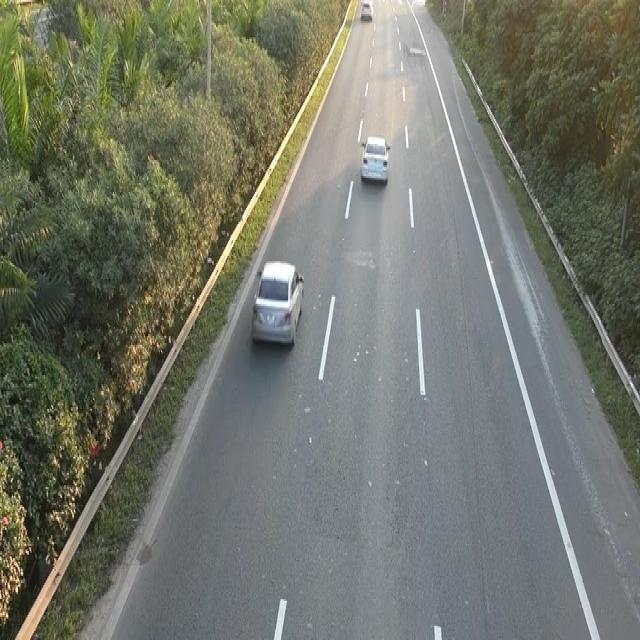bus: (249, 256, 305, 350), (359, 131, 391, 185)
